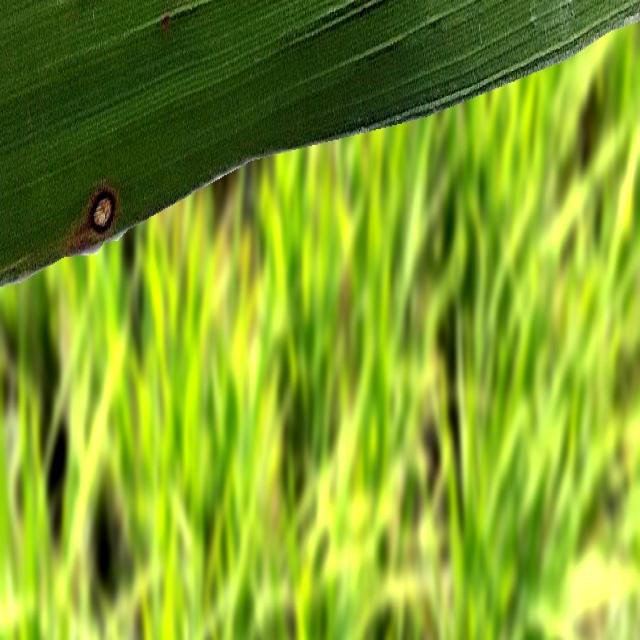LEAF BLAST: (90, 190, 115, 236)
